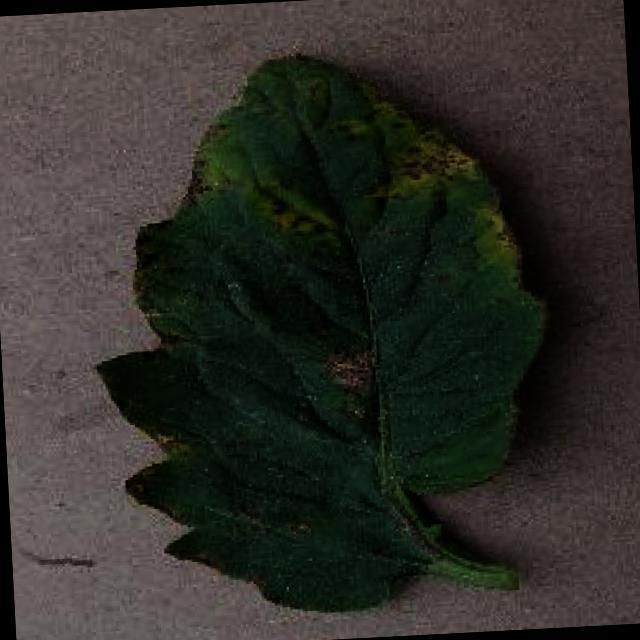Tomato bacterial spot leaf: (77, 35, 564, 630)
